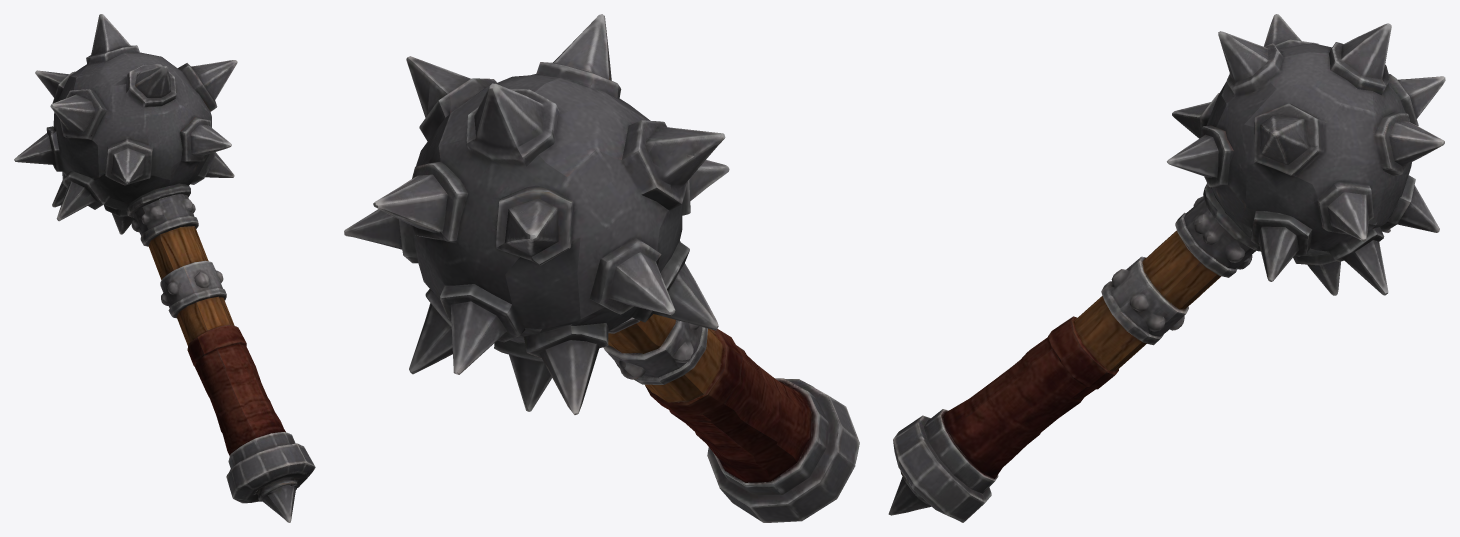
The model's file is morning_star_low.glb.
3 renders of one model, left to right at view 1: azimuth 30°, elevation 25°; view 2: azimuth 150°, elevation 25°; view 3: azimuth 270°, elevation 25°, orthographic. The views are drawn at different scales.
Parts seen in each view (by area): view 1: world; view 2: world; view 3: world.
Boxes of the visible parts, bbox=[...] form: world: bbox=[14, 14, 315, 522]; world: bbox=[344, 14, 859, 522]; world: bbox=[888, 14, 1445, 522].
Size of the model in its own units: 0.5285 by 0.9738 by 0.9995.
1 material, 1 textured.
